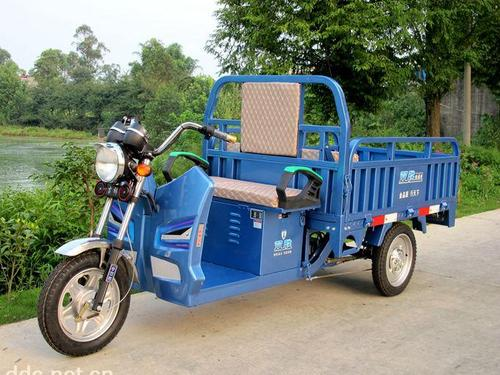empty: (32, 58, 466, 357)
